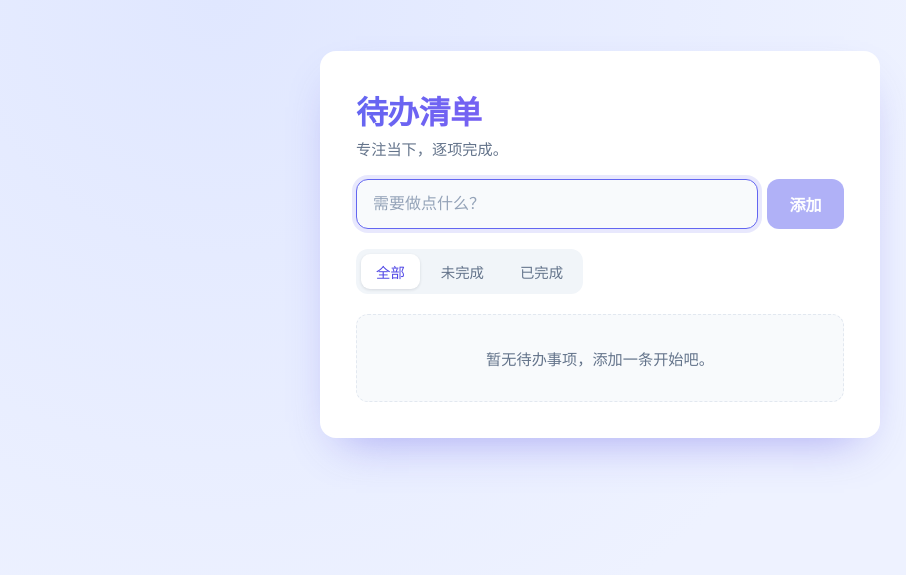
Test case: App › adds, completes and filters todos
The image size is (906, 575).
Type "写周报" into the field named "新待办事项" at (557,204), box [356,179,758,229]
Then press Enter
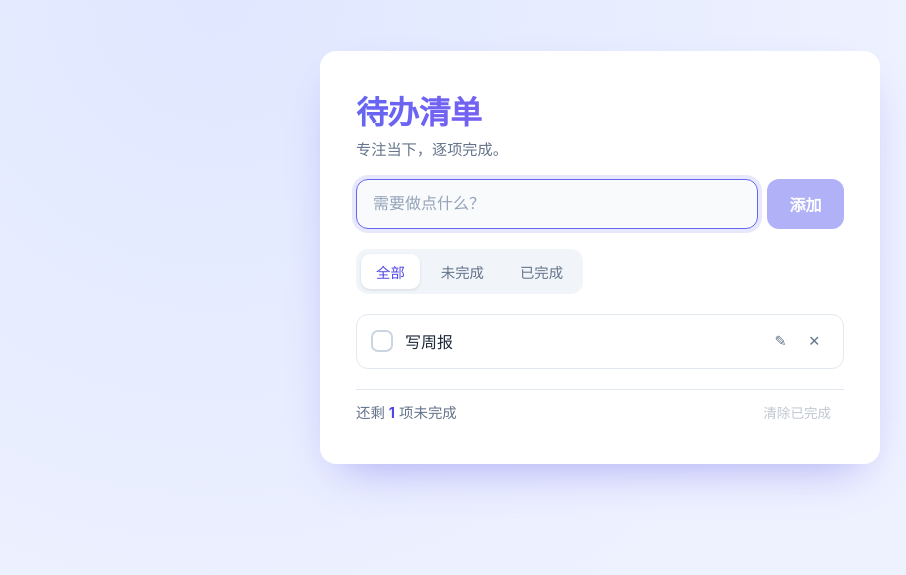
Type "买牛奶" into the field named "新待办事项" at (557,204), box [356,179,758,229]
Then press Enter
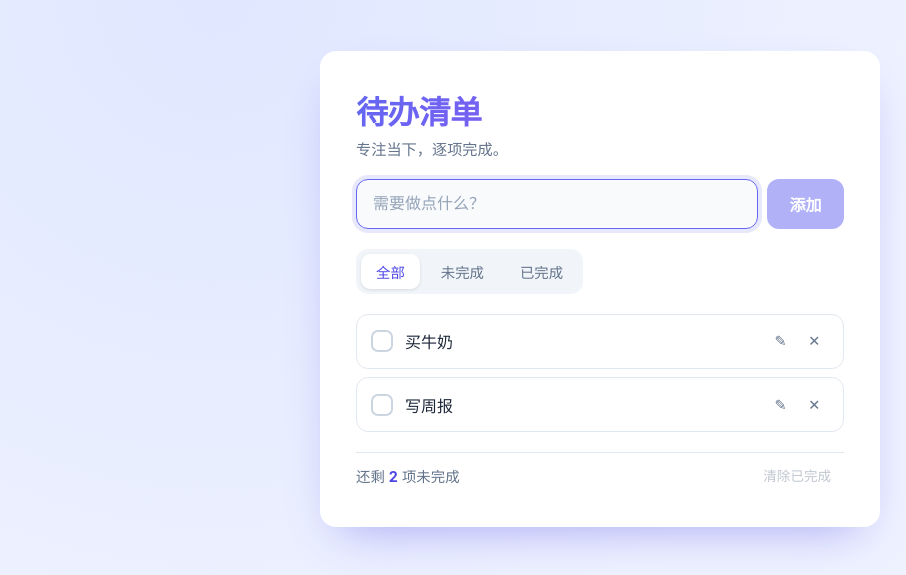
Expected: the text "写周报" is shown, [405,396,453,416]
Expected: the text "买牛奶" is shown, [405,332,453,352]
Expected: the text "还剩 2 项未完成" is shown, [356,465,460,486]
Click the checkbox named "标记「写周报」为已完成" at (382,405), box [371,394,393,416]
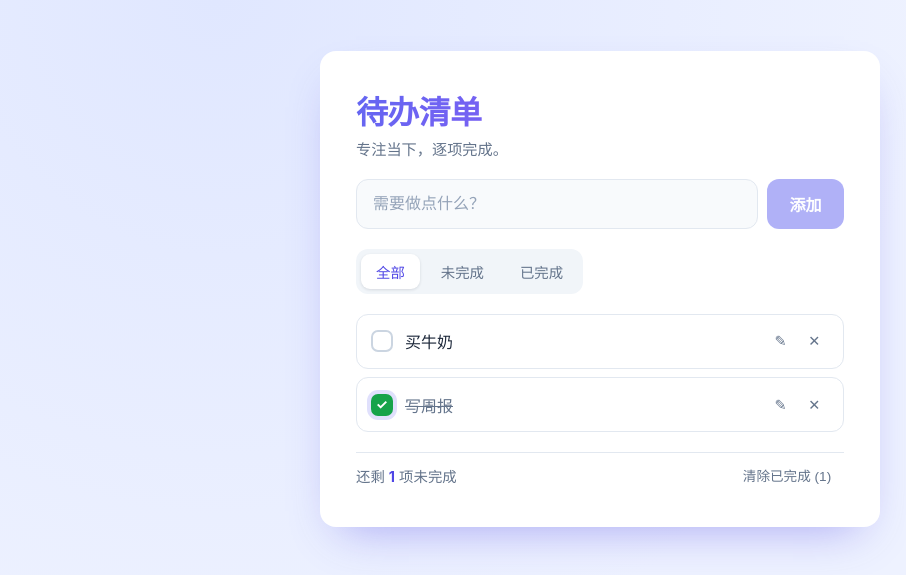
Expected: the text "还剩 1 项未完成" is shown, [356,465,457,486]
Click the button "已完成" at (542,271), box [505,254,578,289]
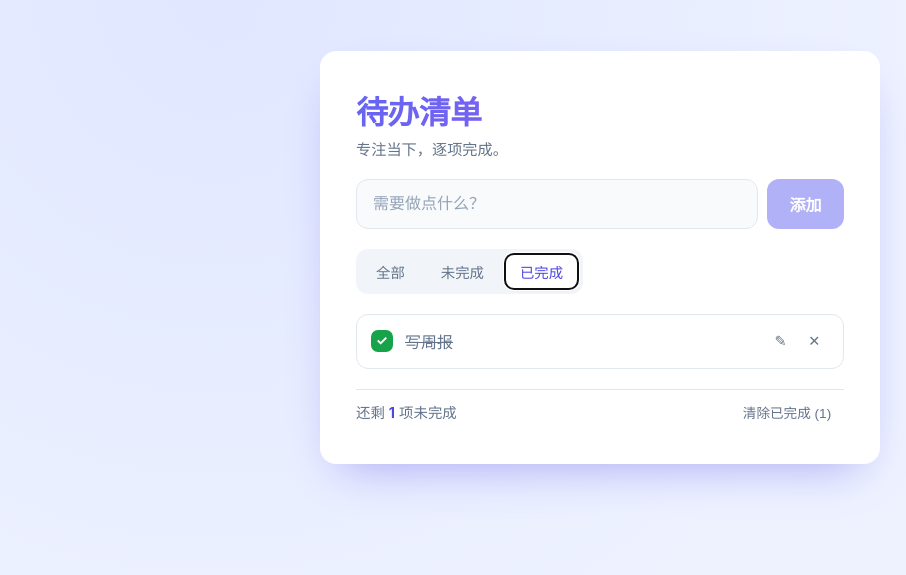
Expected: the text "写周报" is shown, [405,332,453,352]
Expected: the text "买牛奶" is gone
